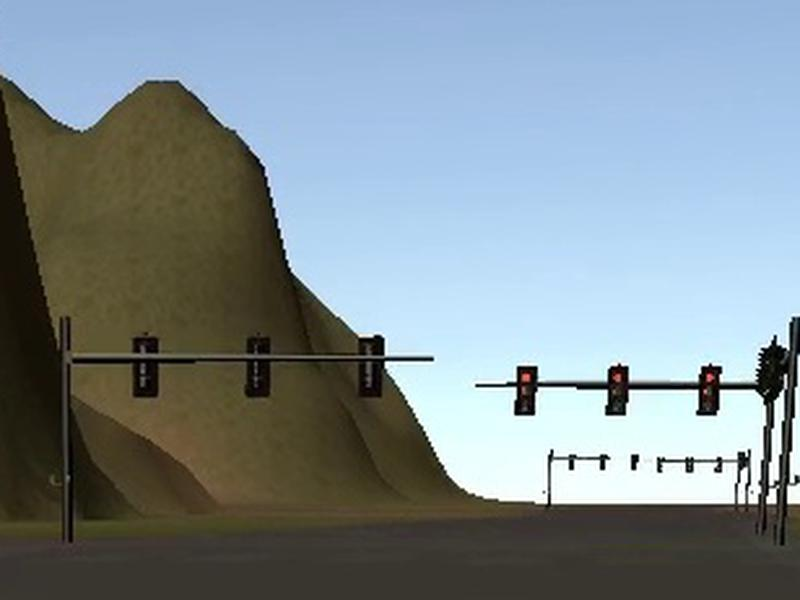Red: (696, 365, 722, 415), (514, 365, 539, 415), (604, 366, 629, 416)
